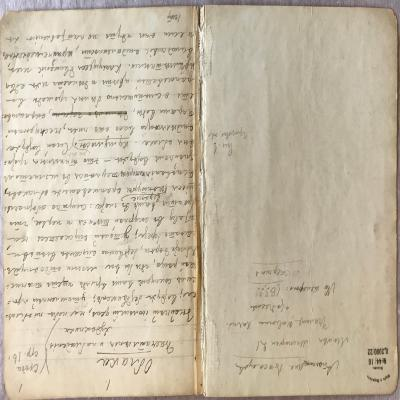document: (0, 3, 400, 400)
